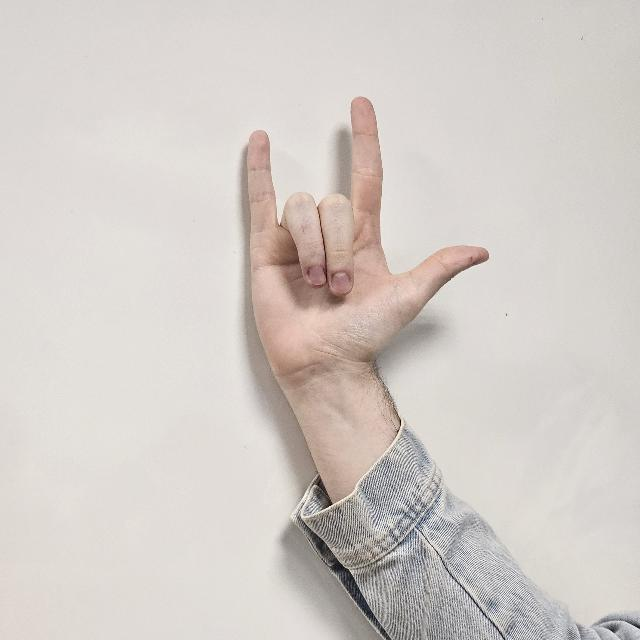Cima: (241, 96, 491, 414)
